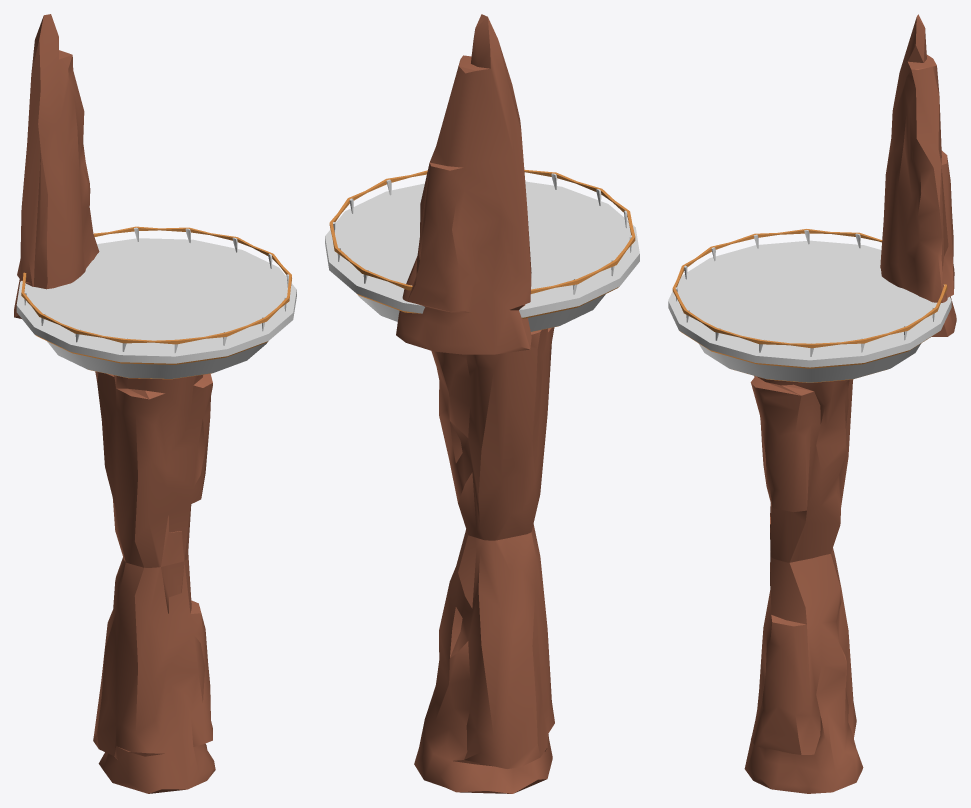
Rendered from prop_Station.fbx.
The picture shows the model from 3 angles, left to right: view 1: azimuth 30°, elevation 25°; view 2: azimuth 150°, elevation 25°; view 3: azimuth 270°, elevation 25°; orthographic projection. The views are drawn at different scales.
Parts seen in each view (by area): view 1: prop_Station; view 2: prop_Station; view 3: prop_Station.
Part boxes in pixels (x1,y1,x2,y2): prop_Station: [14, 14, 296, 793]; prop_Station: [325, 14, 639, 793]; prop_Station: [668, 14, 956, 793].
Size of the model in its own units: 1675 by 4742 by 1705.
